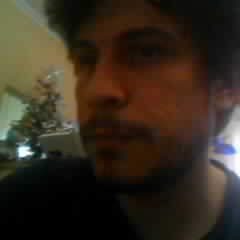without_mask: (67, 1, 213, 190)
